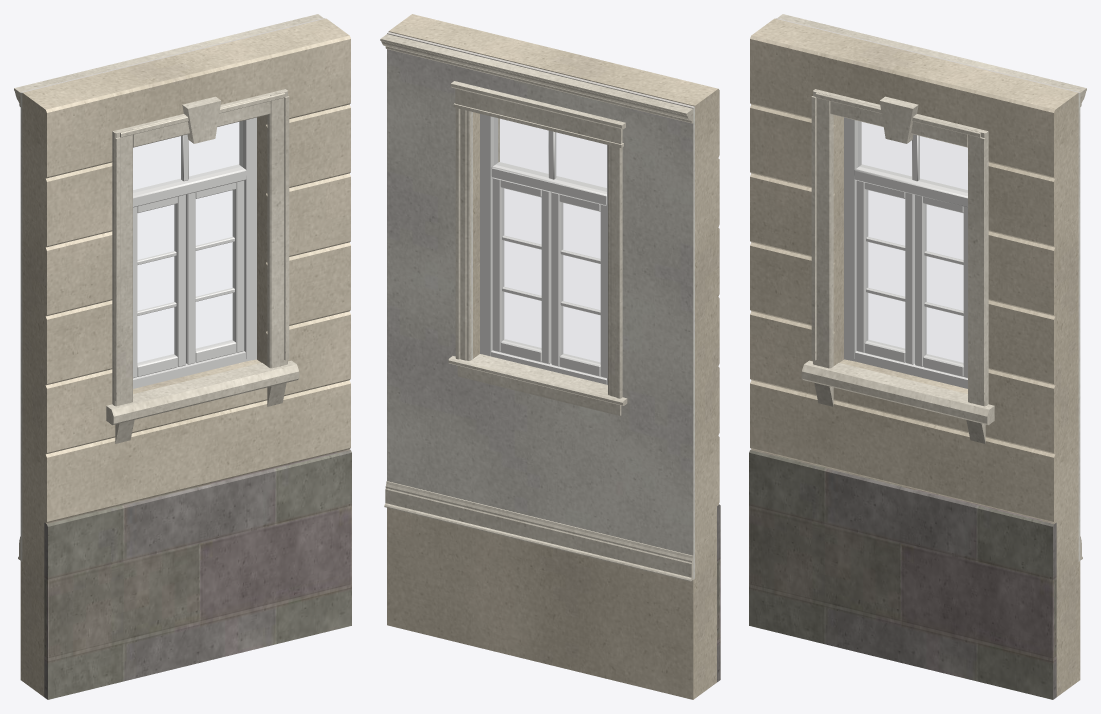
Rendered from g_wall_window.glb.
The picture shows the model from 3 angles, left to right: view 1: azimuth 30°, elevation 25°; view 2: azimuth 150°, elevation 25°; view 3: azimuth 330°, elevation 25°; orthographic projection.
Parts seen in each view (by area): view 1: g_wall_window_rust, g_wall_window_plinth, g_wall_window_trim, g_wall_window_frame, folha_2_glass, folha_glass, folha_2_sash, folha_sash, g_wall_window_glass, molduras, g_wall_window_plaster; view 2: g_wall_window_plaster, g_wall_window_rust, molduras, g_wall_window_frame, folha_glass, folha_2_glass, folha_sash, folha_2_sash, g_wall_window_glass, g_wall_window_plinth; view 3: g_wall_window_rust, g_wall_window_plinth, g_wall_window_trim, g_wall_window_frame, folha_sash, folha_glass, folha_2_glass, g_wall_window_glass, folha_2_sash, molduras, g_wall_window_plaster.
Boxes of the visible parts, x1,y1,x2,y2 form: g_wall_window_rust: (20,18,350,696); g_wall_window_plinth: (44,449,351,699); g_wall_window_trim: (106,89,299,443); g_wall_window_frame: (133,117,256,388); folha_2_glass: (196,190,233,349); folha_glass: (138,205,175,363); folha_2_sash: (188,180,244,364); folha_sash: (133,194,188,378); g_wall_window_glass: (133,121,242,192); molduras: (14,14,323,560); g_wall_window_plaster: (20,18,325,561); g_wall_window_plaster: (387,32,694,579); g_wall_window_rust: (387,14,719,699); molduras: (380,34,693,581); g_wall_window_frame: (480,114,607,384); folha_glass: (562,203,599,363); folha_2_glass: (503,189,540,348); folha_sash: (548,191,606,378); folha_2_sash: (492,178,548,364); g_wall_window_glass: (494,118,606,191); g_wall_window_plinth: (717,504,720,682); g_wall_window_rust: (750,18,1080,696); g_wall_window_plinth: (749,449,1056,699); g_wall_window_trim: (801,89,994,443); g_wall_window_frame: (844,117,967,388); folha_sash: (856,180,915,364); folha_glass: (867,190,904,349); folha_2_glass: (925,205,962,363); g_wall_window_glass: (858,121,967,192); folha_2_sash: (915,195,967,378); molduras: (777,14,1086,560); g_wall_window_plaster: (775,18,1080,561).
Bounding box in the file's own units: 2 × 3.7 × 0.46.
Materials: 8 (5 with a texture image).
